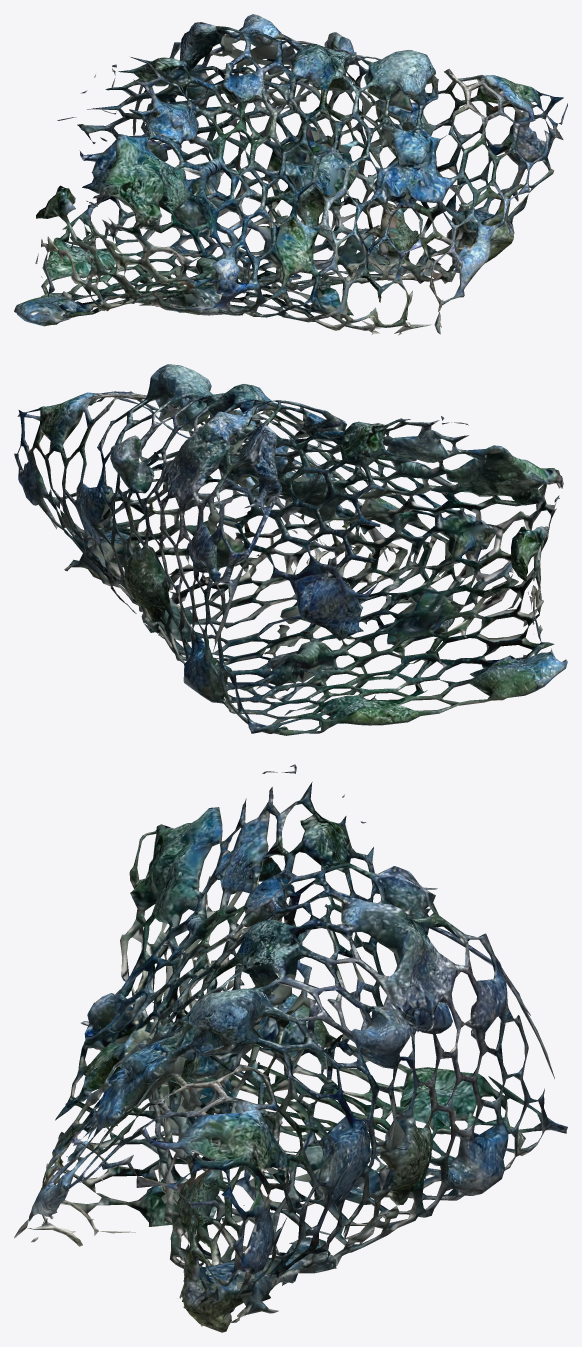
3 views of the same model, one above another, from view 1: azimuth 30°, elevation 25°; view 2: azimuth 150°, elevation 25°; view 3: azimuth 270°, elevation 25° (orthographic). The views are drawn at different scales.
Parts seen in each view (by area): view 1: Mesh_0; view 2: Mesh_0; view 3: Mesh_0.
Part boxes in pixels (x1,y1,x2,y2): Mesh_0: [14, 14, 567, 335]; Mesh_0: [14, 364, 567, 735]; Mesh_0: [14, 764, 567, 1332].
Size of the model in its own units: 2.5 by 1.19 by 1.71.
Materials: 28 (28 with a texture image).
